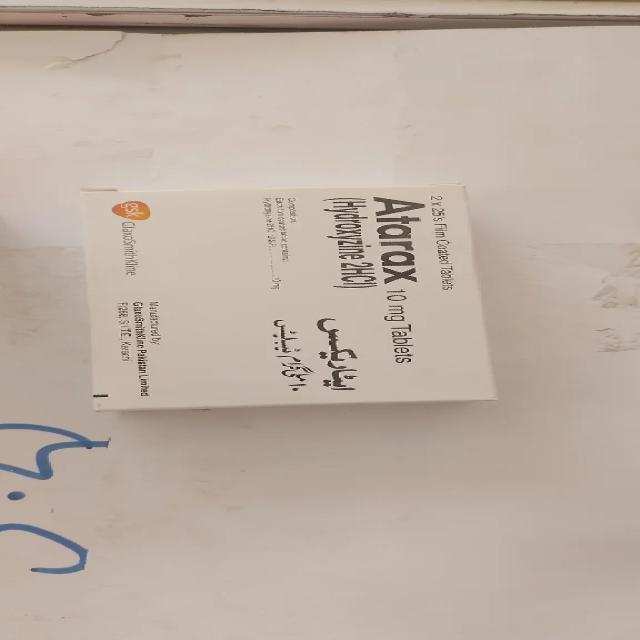drug-name: (374, 196, 431, 282)
